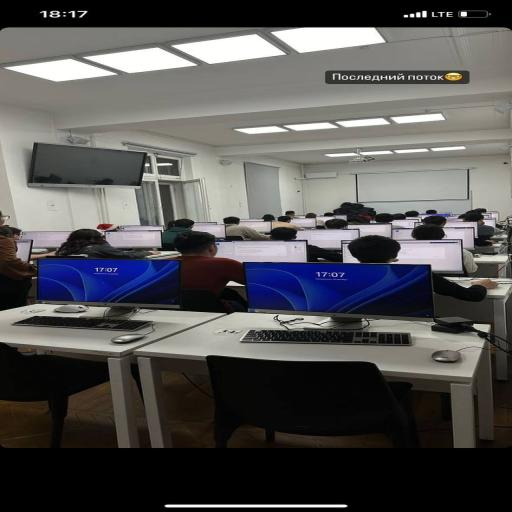bus: (207, 356, 419, 447), (0, 343, 109, 447), (182, 289, 227, 313), (46, 255, 88, 258), (162, 243, 174, 251), (226, 236, 244, 240)
laptop: (173, 231, 245, 299), (0, 212, 36, 310), (56, 229, 160, 258), (432, 273, 497, 301), (223, 217, 269, 240), (463, 213, 495, 246), (163, 219, 194, 249), (334, 202, 375, 222), (308, 244, 342, 262), (412, 225, 446, 239), (273, 216, 303, 229), (305, 213, 324, 228), (422, 216, 447, 227), (325, 219, 348, 229), (6, 226, 21, 240), (376, 213, 394, 223), (31, 252, 55, 259), (97, 224, 121, 231), (262, 214, 275, 221), (405, 211, 419, 217), (285, 211, 296, 217), (473, 208, 486, 213), (393, 214, 406, 219), (305, 213, 317, 218), (324, 212, 334, 217), (426, 210, 437, 214)
stroller: (135, 313, 493, 447), (0, 305, 224, 447), (435, 280, 511, 339), (474, 255, 509, 277), (469, 242, 505, 253), (145, 252, 181, 259), (490, 235, 506, 241)
